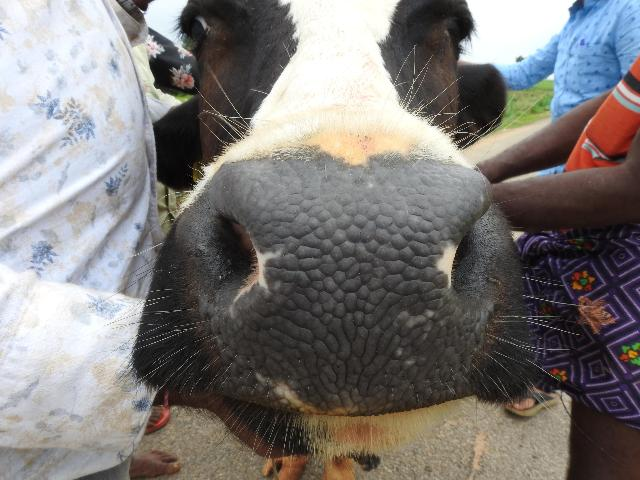Muzzle: (226, 168, 464, 394)
